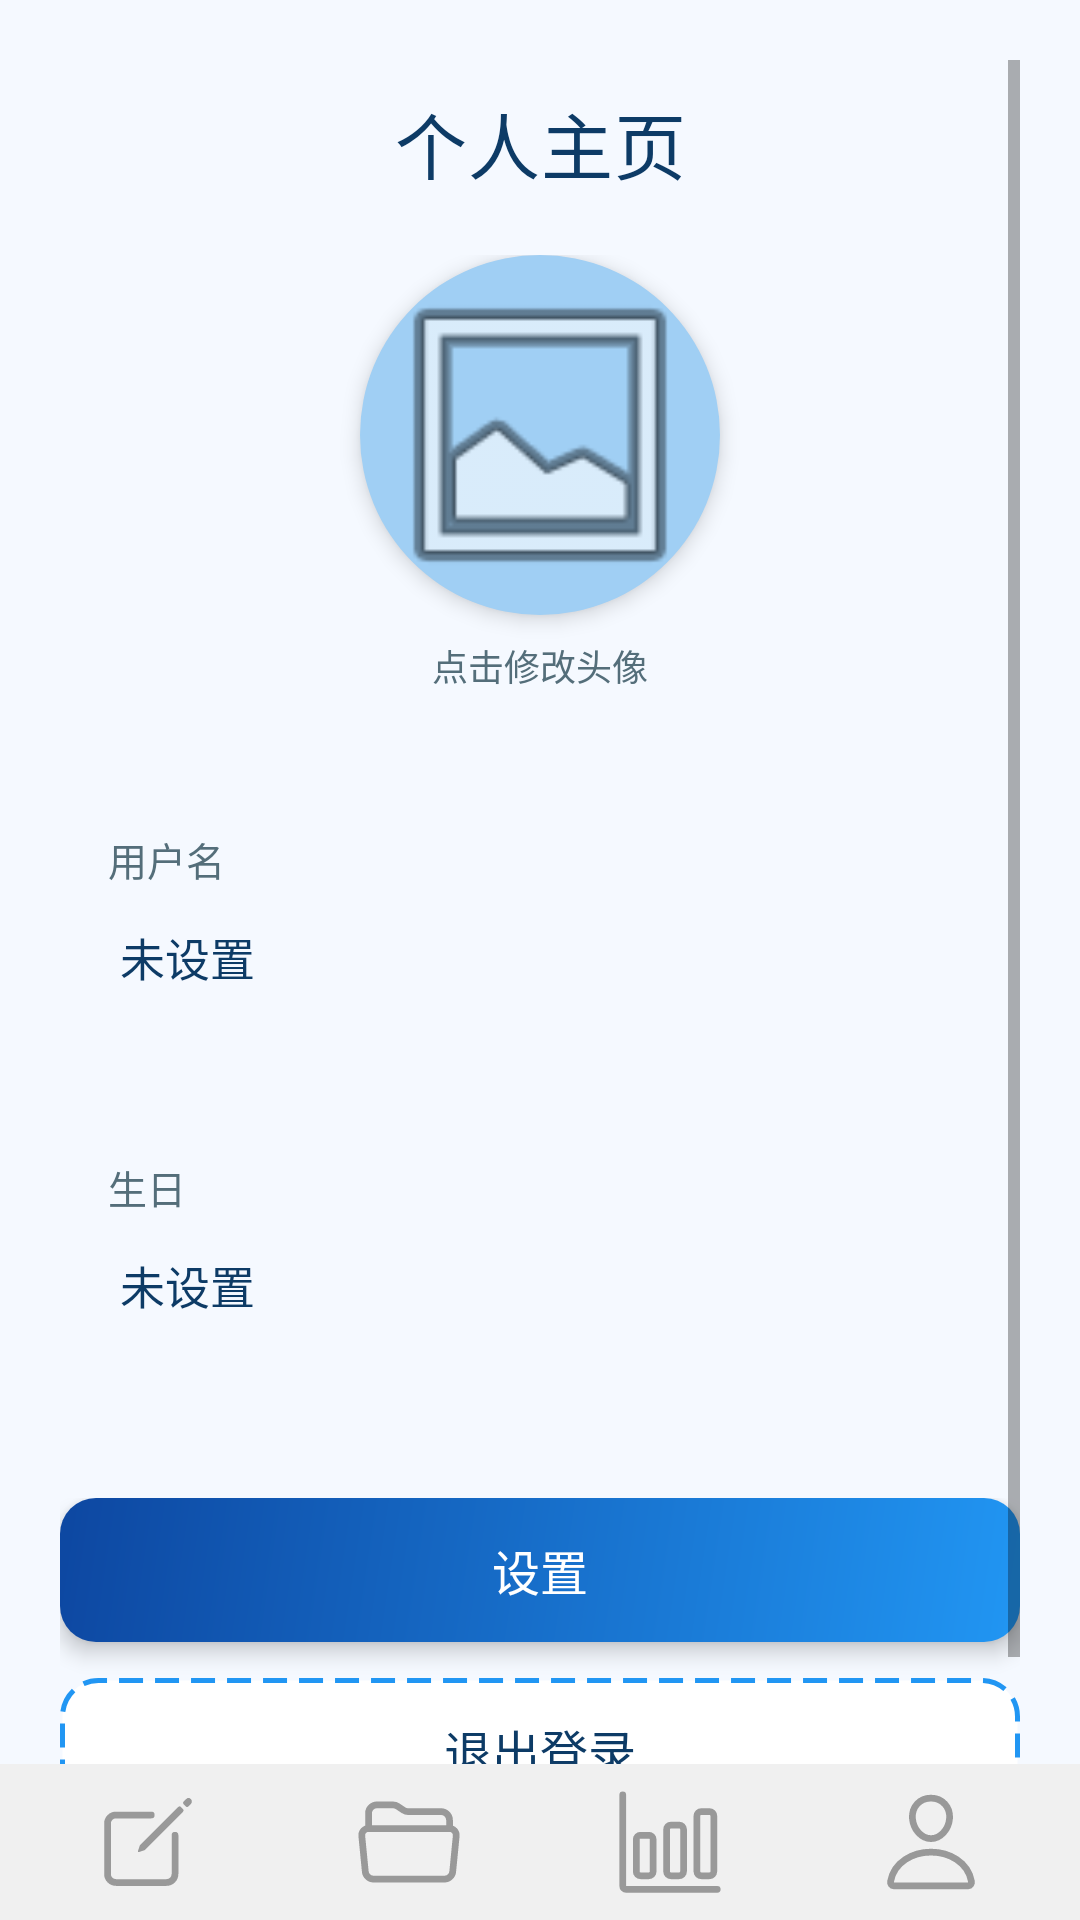

Screen size 1080*1920. Icon name, then its center in pixels as (x,y):
chart: (670,1842)
folder: (409,1842)
person: (931,1842)
record: (148,1842)
